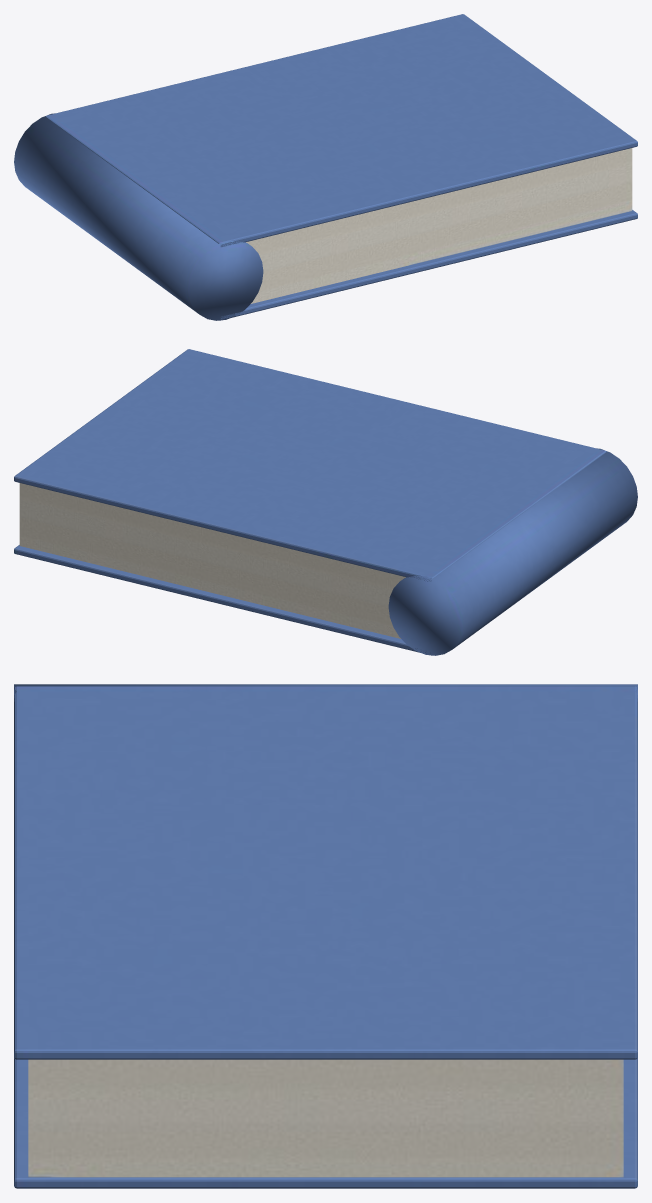
The model's file is book_blue.glb.
3 views of the same model, one above another, from view 1: azimuth 30°, elevation 25°; view 2: azimuth 150°, elevation 25°; view 3: azimuth 270°, elevation 25° (orthographic). The views are drawn at different scales.
Visible parts, largest first — view 1: book_blue; view 2: book_blue; view 3: book_blue.
Boxes of the visible parts, x1,y1,x2,y2 form: book_blue: (14, 14, 637, 320); book_blue: (14, 349, 637, 655); book_blue: (14, 684, 637, 1188).
Bounding box in the file's own units: 9.65 × 1.6 × 6.5.
1 material, 1 textured.
